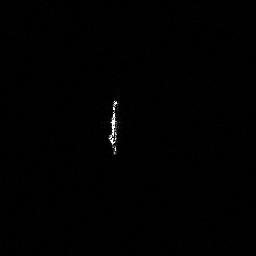ship: (105, 96, 122, 158)
